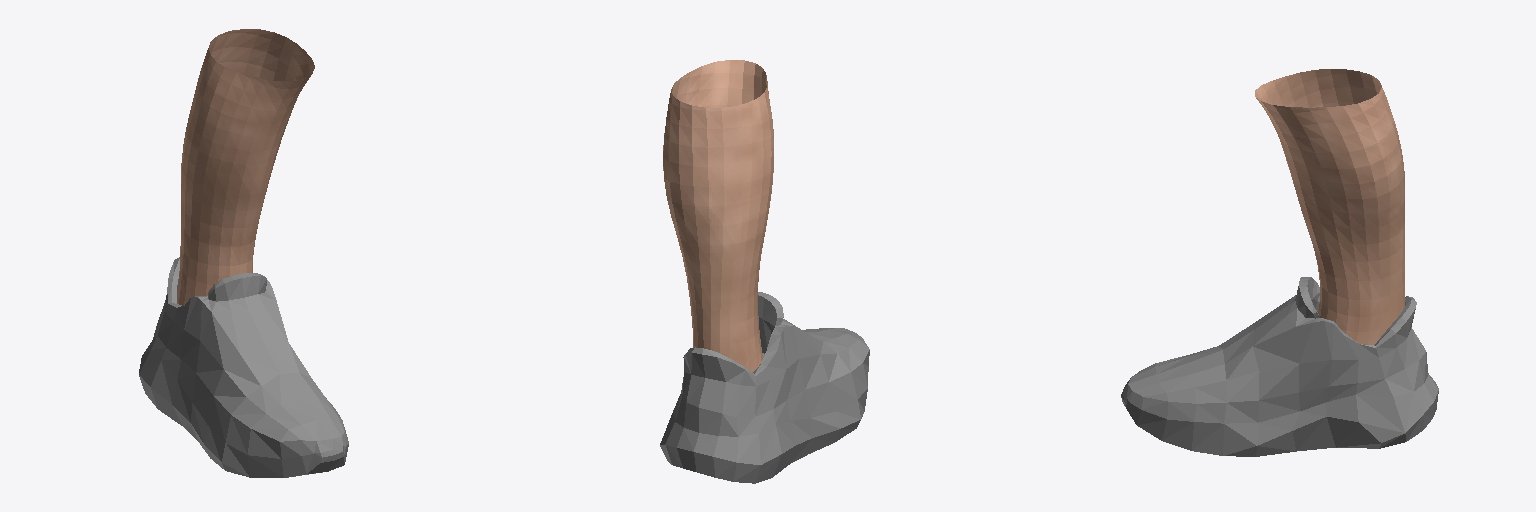
The picture shows the model from 3 angles: view 1: azimuth 30°, elevation 25°; view 2: azimuth 150°, elevation 25°; view 3: azimuth 270°, elevation 25°; orthographic projection.
Visible parts, largest first — view 1: pantorillaDER001; view 2: pantorillaDER001; view 3: pantorillaDER001.
Part boxes in pixels (bbox=[...]): pantorillaDER001: bbox=[139, 29, 348, 477]; pantorillaDER001: bbox=[660, 60, 869, 483]; pantorillaDER001: bbox=[1121, 69, 1438, 456].
Bounding box in the file's own units: 0.1093 × 0.297 × 0.2357.
2 materials, 1 textured.